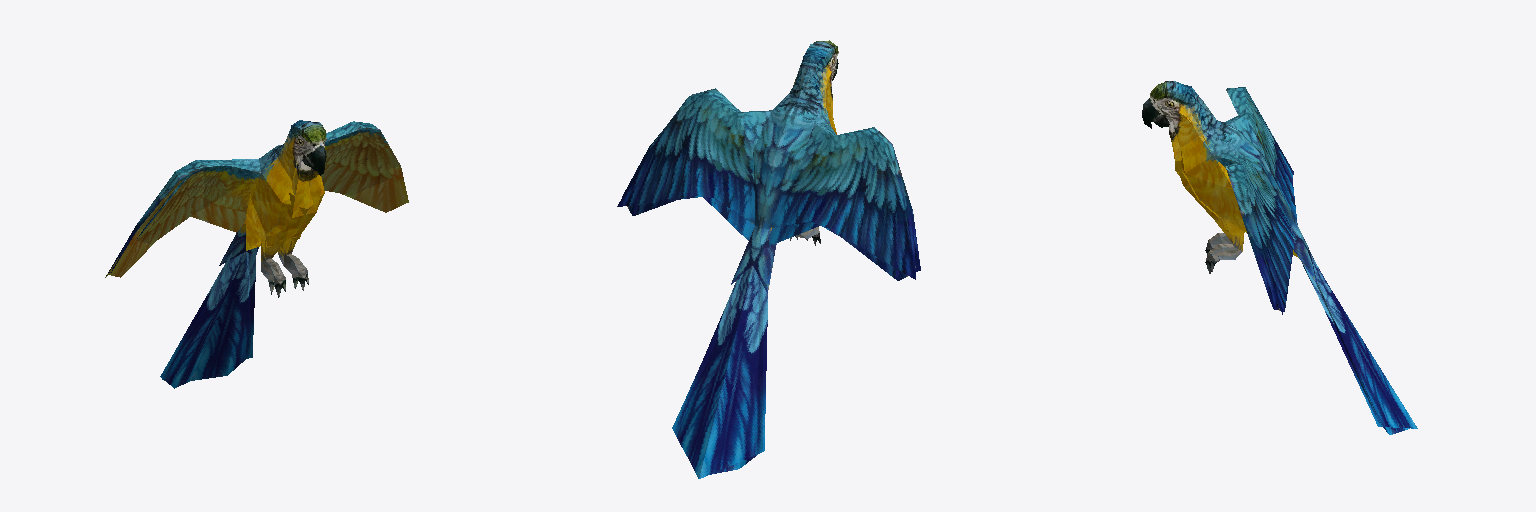
3 renders of one model, left to right at view 1: azimuth 30°, elevation 25°; view 2: azimuth 150°, elevation 25°; view 3: azimuth 270°, elevation 25°, orthographic.
Parts seen in each view (by area): view 1: Editable_Mesh.026, Editable_Mesh.000_Editable_Mesh.027, Editable_Mesh.001_Editable_Mesh.028; view 2: Editable_Mesh.001_Editable_Mesh.028, Editable_Mesh.026, Editable_Mesh.000_Editable_Mesh.027; view 3: Editable_Mesh.026, Editable_Mesh.001_Editable_Mesh.028, Editable_Mesh.000_Editable_Mesh.027.
Boxes of the visible parts, box(x1,y1,x2,y2) form: Editable_Mesh.026: box(110, 121, 408, 388); Editable_Mesh.000_Editable_Mesh.027: box(105, 126, 391, 377); Editable_Mesh.001_Editable_Mesh.028: box(106, 120, 400, 379); Editable_Mesh.001_Editable_Mesh.028: box(617, 41, 915, 478); Editable_Mesh.026: box(622, 40, 920, 474); Editable_Mesh.000_Editable_Mesh.027: box(621, 54, 904, 452); Editable_Mesh.026: box(1142, 81, 1409, 434); Editable_Mesh.001_Editable_Mesh.028: box(1143, 81, 1417, 428); Editable_Mesh.000_Editable_Mesh.027: box(1143, 96, 1381, 426).
Size of the model in its own units: 1.16 by 1.29 by 0.931.
Materials: 3 (1 with a texture image).